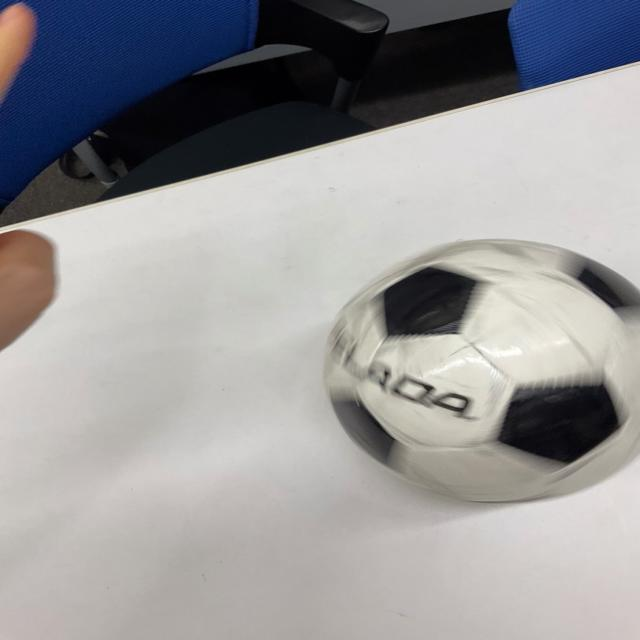ball: (331, 240, 640, 505)
